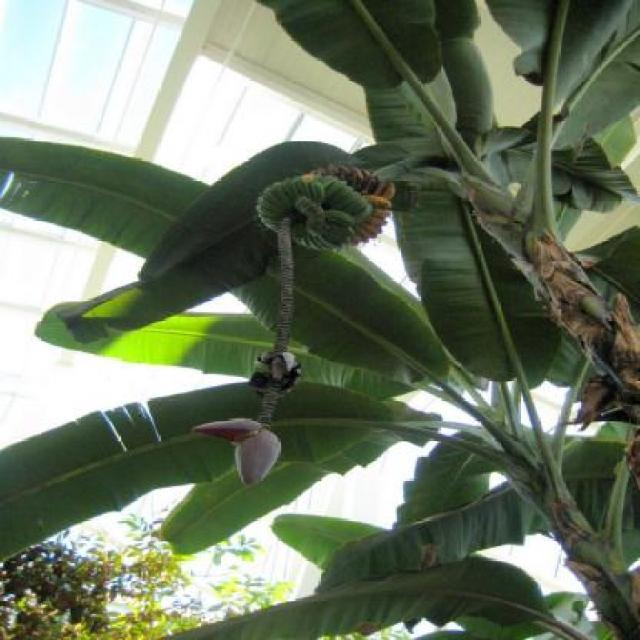Banana: (255, 162, 394, 252), (362, 193, 394, 207)
